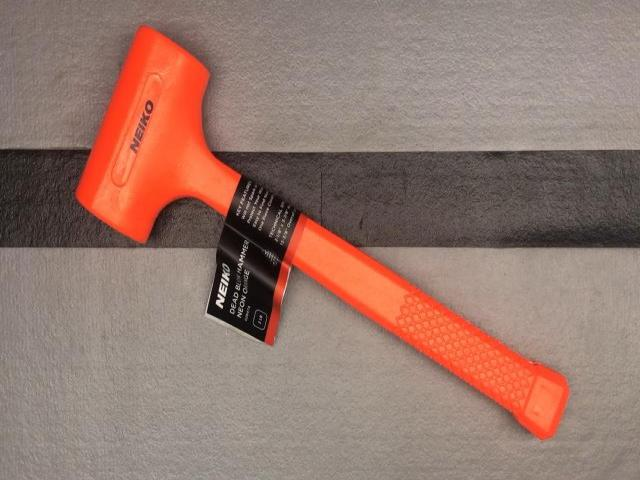hammer: (75, 25, 569, 440)
